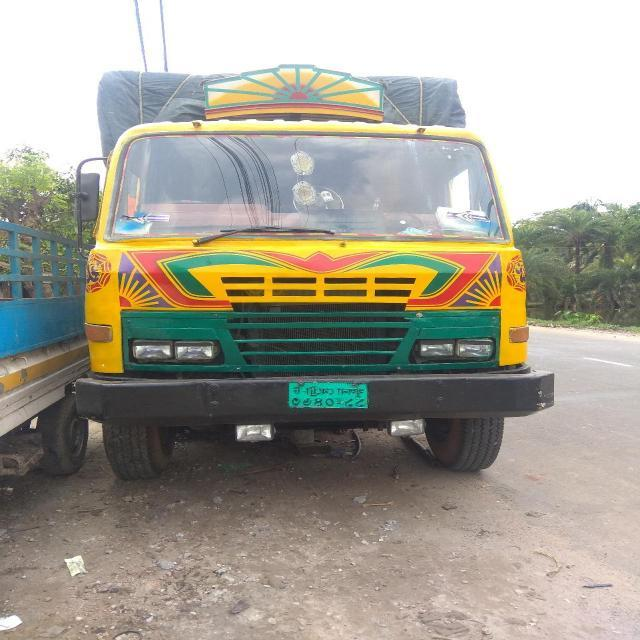numberplate: (287, 380, 370, 409)
